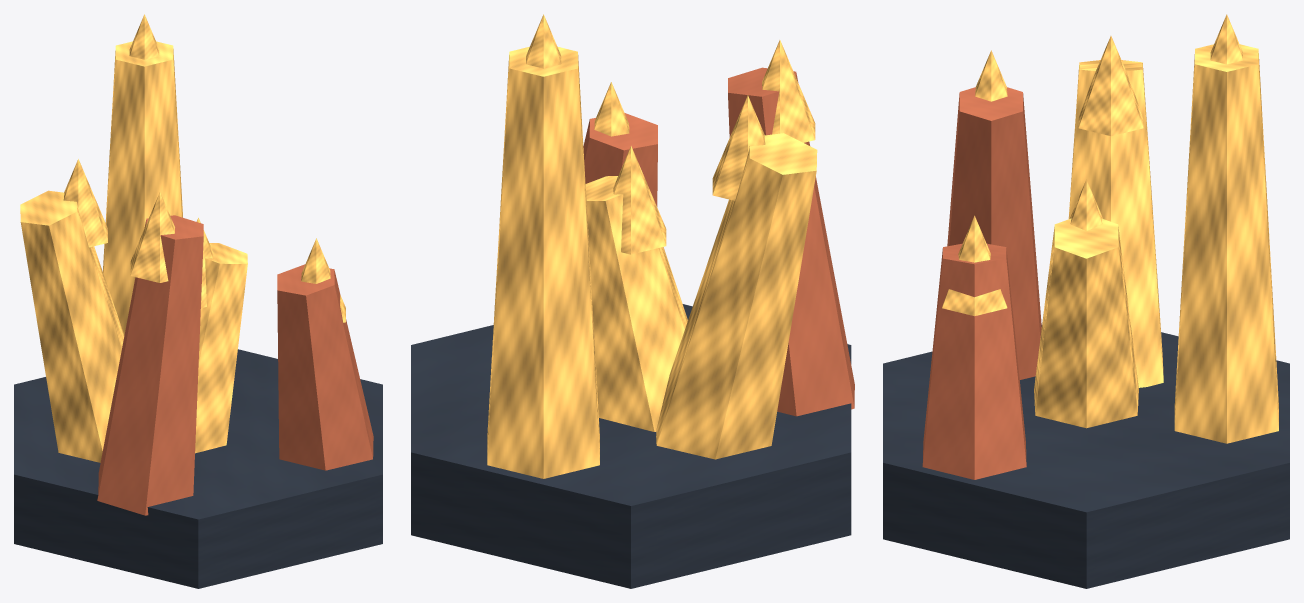
Rendered from atlas100-s021-a04.glb.
3 views of the same model, side by side, from view 1: azimuth 30°, elevation 25°; view 2: azimuth 150°, elevation 25°; view 3: azimuth 270°, elevation 25° (orthographic). The views are drawn at different scales.
Parts seen in each view (by area): view 1: atlas100-s021-a04:part-000, atlas100-s021-a04:part-003, atlas100-s021-a04:part-009, atlas100-s021-a04:part-007, atlas100-s021-a04:part-005, atlas100-s021-a04:part-001, atlas100-s021-a04:part-004, atlas100-s021-a04:part-010, atlas100-s021-a04:part-008, atlas100-s021-a04:part-006; view 2: atlas100-s021-a04:part-000, atlas100-s021-a04:part-005, atlas100-s021-a04:part-009, atlas100-s021-a04:part-001, atlas100-s021-a04:part-003, atlas100-s021-a04:part-007, atlas100-s021-a04:part-002, atlas100-s021-a04:part-004, atlas100-s021-a04:part-010, atlas100-s021-a04:part-008, atlas100-s021-a04:part-006; view 3: atlas100-s021-a04:part-000, atlas100-s021-a04:part-005, atlas100-s021-a04:part-007, atlas100-s021-a04:part-001, atlas100-s021-a04:part-003, atlas100-s021-a04:part-009, atlas100-s021-a04:part-010, atlas100-s021-a04:part-008, atlas100-s021-a04:part-004, atlas100-s021-a04:part-006, atlas100-s021-a04:part-002.
Part boxes in pixels (bbox=[...]): atlas100-s021-a04:part-000: bbox=[14, 349, 382, 588]; atlas100-s021-a04:part-003: bbox=[97, 215, 203, 515]; atlas100-s021-a04:part-009: bbox=[20, 190, 124, 462]; atlas100-s021-a04:part-007: bbox=[277, 264, 373, 470]; atlas100-s021-a04:part-005: bbox=[103, 41, 182, 334]; atlas100-s021-a04:part-001: bbox=[195, 243, 247, 453]; atlas100-s021-a04:part-004: bbox=[130, 192, 174, 282]; atlas100-s021-a04:part-010: bbox=[63, 159, 107, 247]; atlas100-s021-a04:part-008: bbox=[301, 238, 345, 322]; atlas100-s021-a04:part-006: bbox=[129, 14, 159, 59]; atlas100-s021-a04:part-000: bbox=[411, 304, 851, 588]; atlas100-s021-a04:part-005: bbox=[487, 47, 599, 478]; atlas100-s021-a04:part-009: bbox=[656, 133, 817, 459]; atlas100-s021-a04:part-001: bbox=[585, 176, 687, 431]; atlas100-s021-a04:part-003: bbox=[728, 67, 854, 416]; atlas100-s021-a04:part-007: bbox=[583, 113, 657, 206]; atlas100-s021-a04:part-002: bbox=[613, 146, 666, 254]; atlas100-s021-a04:part-004: bbox=[762, 40, 815, 142]; atlas100-s021-a04:part-010: bbox=[712, 95, 765, 200]; atlas100-s021-a04:part-008: bbox=[594, 82, 629, 136]; atlas100-s021-a04:part-006: bbox=[526, 14, 561, 68]; atlas100-s021-a04:part-000: bbox=[883, 325, 1289, 588]; atlas100-s021-a04:part-005: bbox=[1174, 44, 1278, 443]; atlas100-s021-a04:part-007: bbox=[922, 243, 1026, 479]; atlas100-s021-a04:part-001: bbox=[1034, 218, 1138, 428]; atlas100-s021-a04:part-003: bbox=[947, 87, 1041, 379]; atlas100-s021-a04:part-009: bbox=[1068, 60, 1163, 387]; atlas100-s021-a04:part-010: bbox=[1078, 36, 1143, 136]; atlas100-s021-a04:part-008: bbox=[942, 215, 1007, 316]; atlas100-s021-a04:part-004: bbox=[975, 50, 1007, 101]; atlas100-s021-a04:part-006: bbox=[1210, 14, 1242, 64]; atlas100-s021-a04:part-002: bbox=[1070, 179, 1102, 230].
Size of the model in its own units: 1.07 by 1.21 by 0.9258.
Materials: 3 (3 with a texture image).
